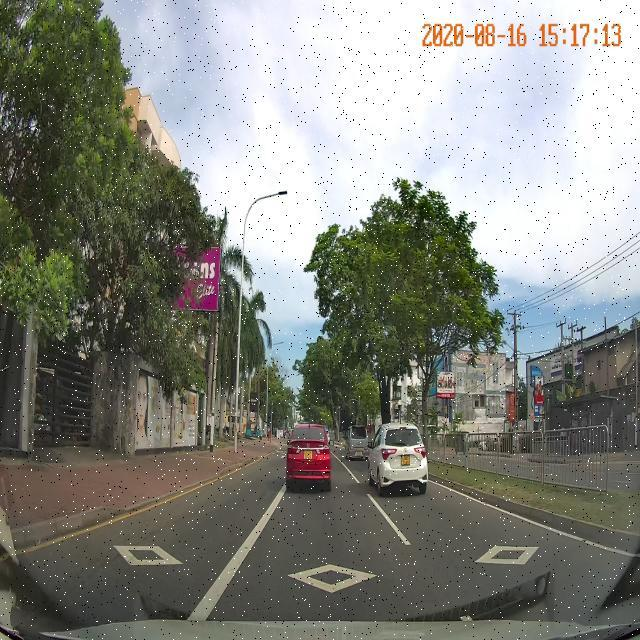diamond: (189, 534, 463, 603)
